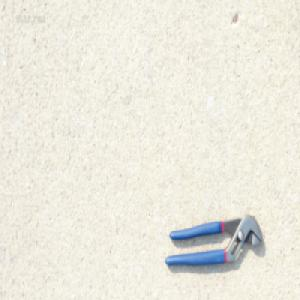Pliers: (163, 211, 263, 267)
